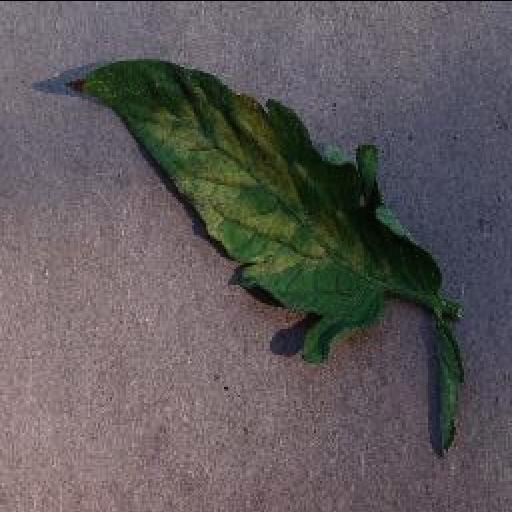disease_tomato: (68, 54, 436, 360)
